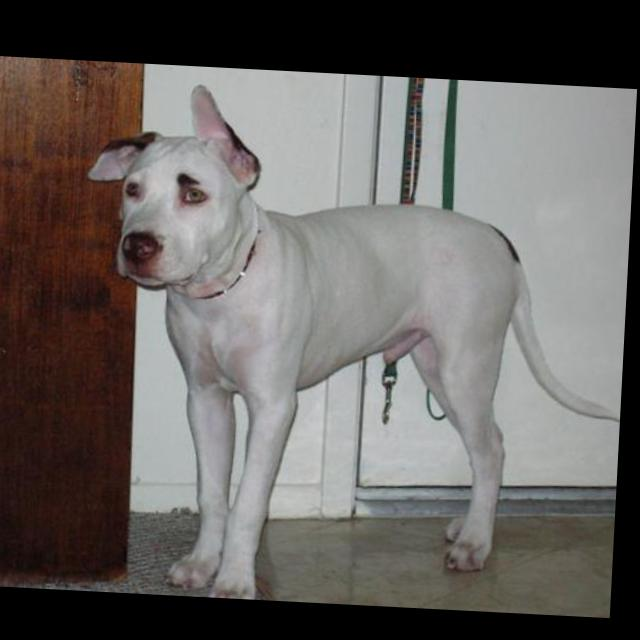amstaff: (73, 77, 638, 611)
